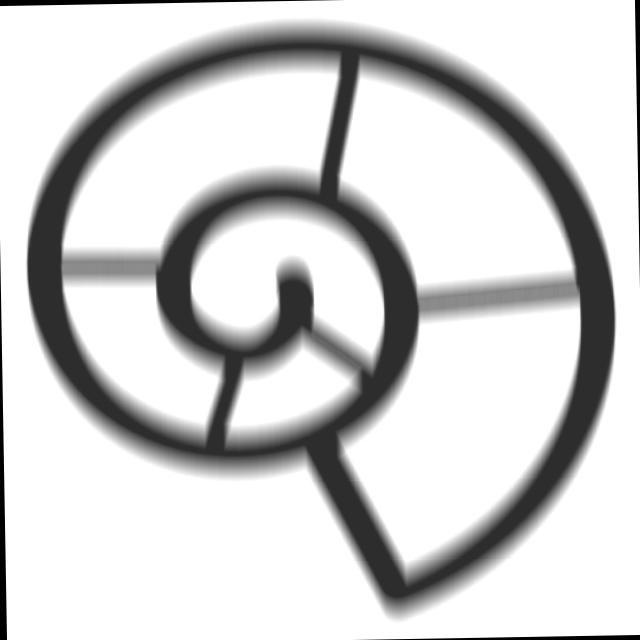fossil: (12, 6, 633, 635)
